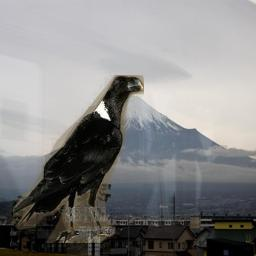Crow: (13, 75, 144, 243)
